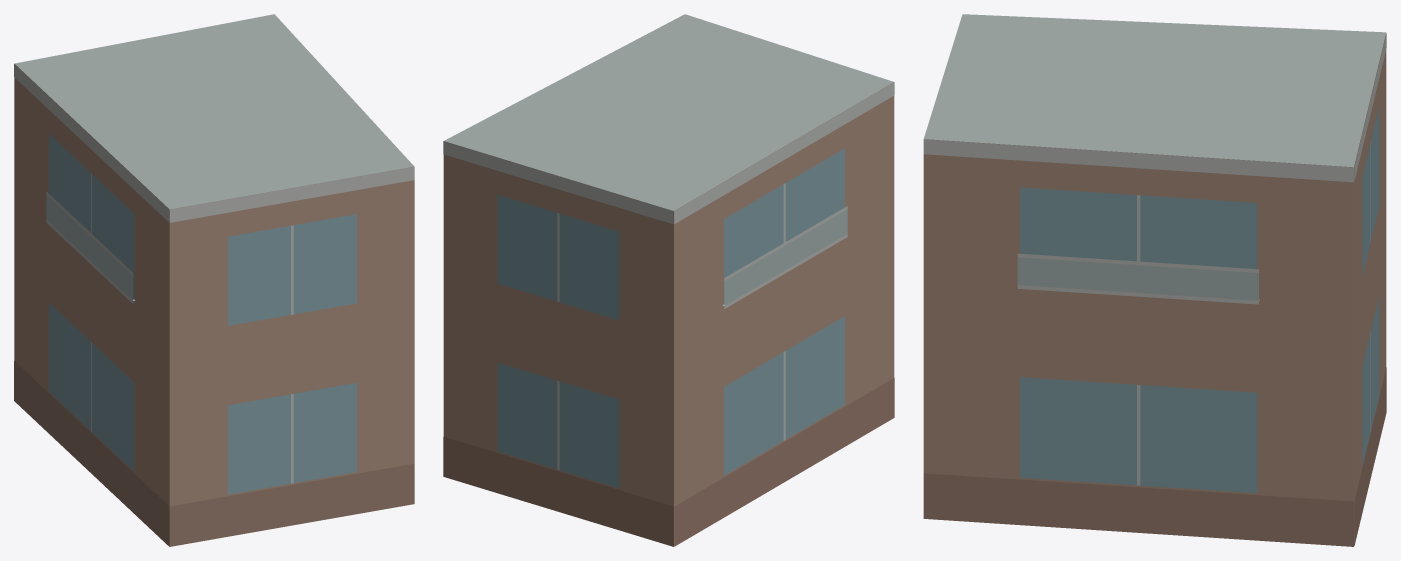
Rendered from survey-upis-32509253.glb.
The picture shows the model from 3 angles, left to right: view 1: azimuth 30°, elevation 25°; view 2: azimuth 150°, elevation 25°; view 3: azimuth 270°, elevation 25°; orthographic projection. The views are drawn at different scales.
Visible parts, largest first — view 1: survey-upis-32509253.tmp; view 2: survey-upis-32509253.tmp; view 3: survey-upis-32509253.tmp.
Part boxes in pixels (x1,y1,x2,y2): survey-upis-32509253.tmp: [14, 14, 414, 546]; survey-upis-32509253.tmp: [443, 14, 894, 546]; survey-upis-32509253.tmp: [923, 14, 1386, 546].
Size of the model in its own units: 5.29 by 6.1 by 6.75.
